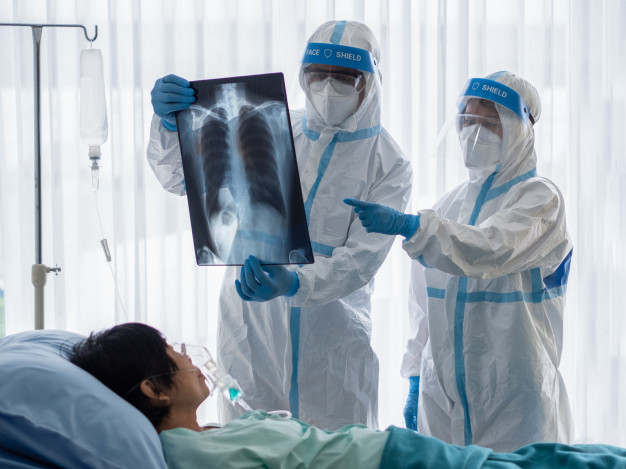Coverall: (145, 16, 410, 425), (403, 72, 576, 444)
Face_Shield: (430, 77, 519, 193), (298, 39, 375, 142)
Gloves: (234, 255, 305, 304), (344, 197, 420, 239), (149, 74, 196, 124), (404, 374, 420, 430)
Goggles: (298, 67, 364, 96), (456, 109, 509, 139)
with_mask: (312, 75, 362, 123), (460, 118, 499, 168)
